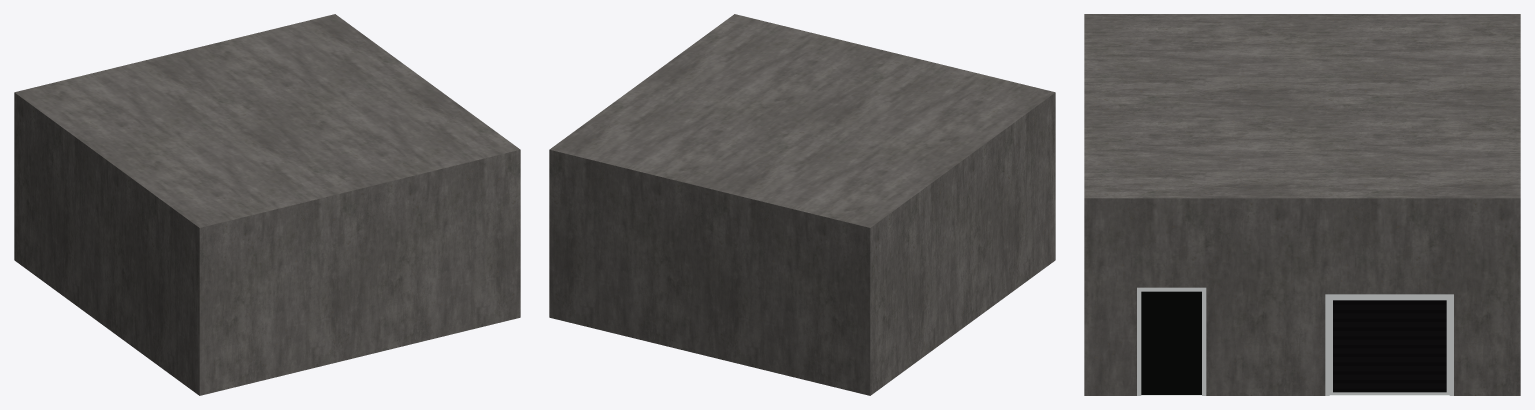
Rendered from Planta Baja.fbx.
3 views of the same model, side by side, from view 1: azimuth 30°, elevation 25°; view 2: azimuth 150°, elevation 25°; view 3: azimuth 270°, elevation 25° (orthographic). The views are drawn at different scales.
Visible parts, largest first — view 1: building_002; view 2: building_002; view 3: building_002.
Boxes of the visible parts, x1,y1,x2,y2 form: building_002: [14, 14, 520, 395]; building_002: [549, 14, 1055, 395]; building_002: [1084, 14, 1520, 395].
Bounding box in the file's own units: 1000 × 500 × 1000.
Materials: 2 (2 with a texture image).
